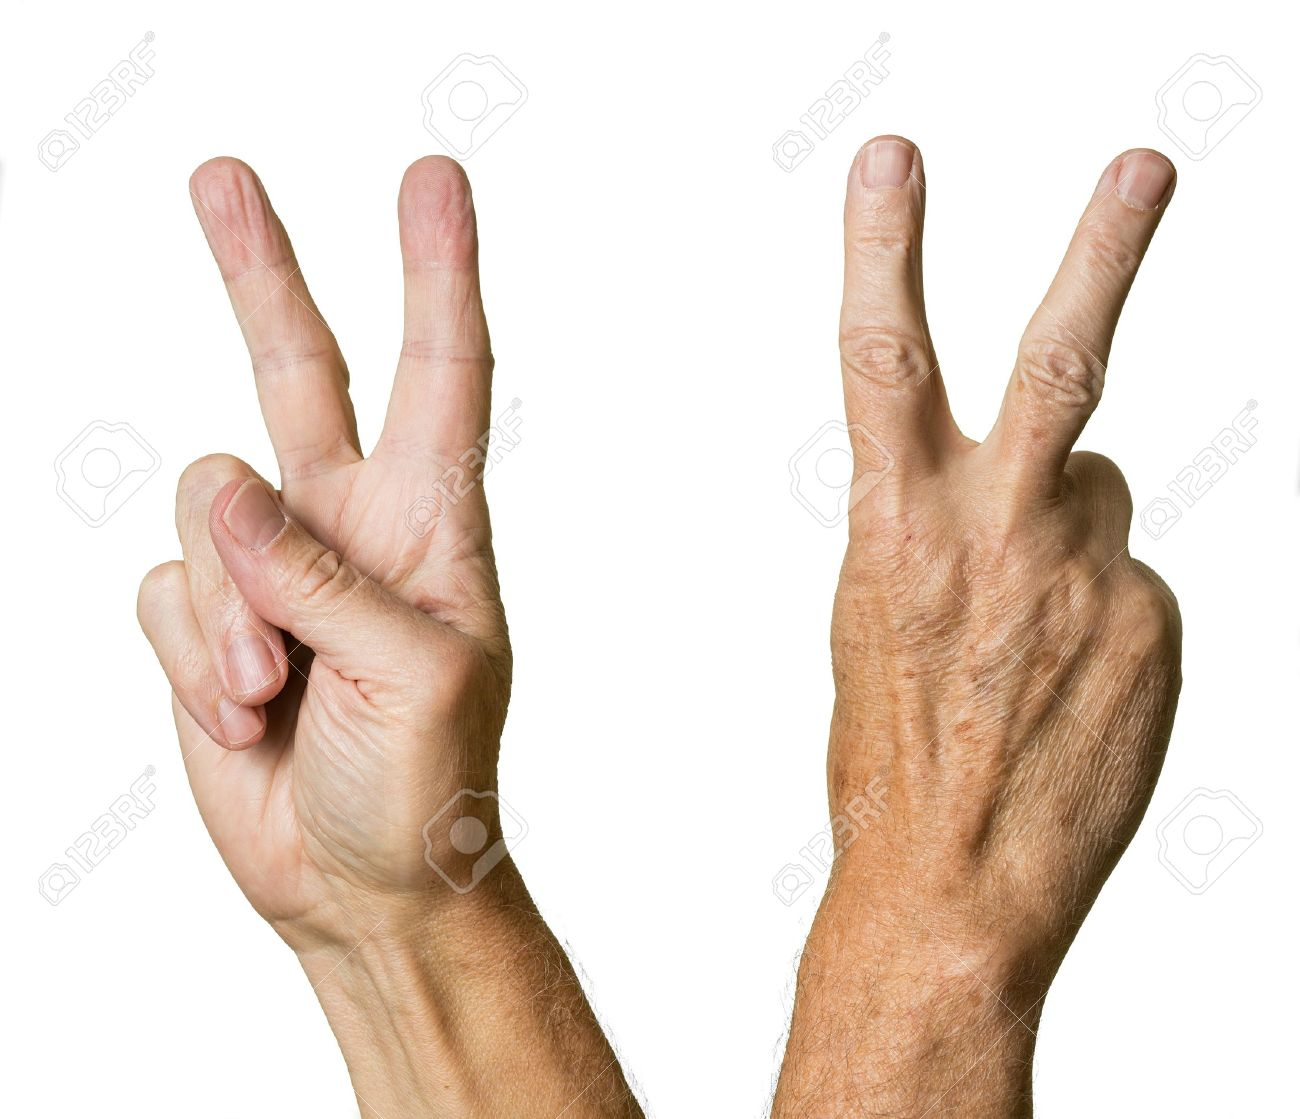v_s: (790, 129, 1198, 983), (120, 139, 558, 925)
